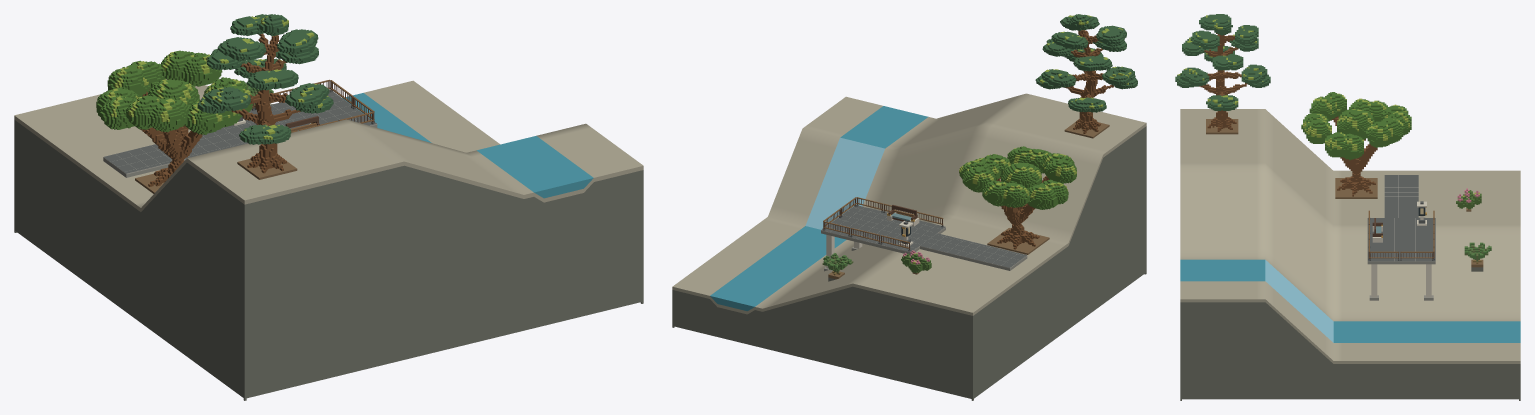
File: visual-far.glb
3 views of the same model, side by side, from view 1: azimuth 30°, elevation 25°; view 2: azimuth 150°, elevation 25°; view 3: azimuth 270°, elevation 25° (orthographic). The views are drawn at different scales.
Visible parts, largest first — view 1: 连续岩土实体与最小原生岩块, 松类体素分枝树母版, 阔叶分枝与开阔树冠母版, 同源床面裁切的真实水域 (×2), 分层实心台基与独立石铺面 (×2); view 2: 连续岩土实体与最小原生岩块, 同源床面裁切的真实水域 (×3), 阔叶分枝与开阔树冠母版, 松类体素分枝树母版, 分层实心台基与独立石铺面 (×2), 贴地独立根域与表土, 分枝灌木与花灌木母版, 公共长椅与石凳母版; view 3: 连续岩土实体与最小原生岩块, 同源床面裁切的真实水域 (×3), 阔叶分枝与开阔树冠母版, 松类体素分枝树母版, 分层实心台基与独立石铺面 (×2), 贴地独立根域与表土 (×2), 分枝灌木与花灌木母版, 蕨类与阔叶地被簇母版.
Boxes of the visible parts, box(x1,y1,x2,y2) form: 连续岩土实体与最小原生岩块: box(14, 79, 643, 400); 松类体素分枝树母版: box(197, 14, 333, 173); 阔叶分枝与开阔树冠母版: box(96, 50, 252, 186); 同源床面裁切的真实水域 (×2): box(342, 93, 593, 198); 分层实心台基与独立石铺面 (×2): box(103, 91, 377, 177); 连续岩土实体与最小原生岩块: box(672, 93, 1146, 400); 同源床面裁切的真实水域 (×3): box(710, 106, 928, 311); 阔叶分枝与开阔树冠母版: box(959, 146, 1076, 249); 松类体素分枝树母版: box(1035, 14, 1137, 133); 分层实心台基与独立石铺面 (×2): box(821, 205, 1027, 270); 贴地独立根域与表土: box(987, 228, 1049, 254); 分枝灌木与花灌木母版: box(901, 250, 931, 273); 公共长椅与石凳母版: box(887, 205, 919, 226); 连续岩土实体与最小原生岩块: box(1180, 109, 1520, 400); 同源床面裁切的真实水域 (×3): box(1180, 259, 1520, 342); 阔叶分枝与开阔树冠母版: box(1301, 92, 1411, 196); 松类体素分枝树母版: box(1175, 14, 1270, 131); 分层实心台基与独立石铺面 (×2): box(1367, 175, 1435, 264); 贴地独立根域与表土 (×2): box(1206, 119, 1377, 198); 分枝灌木与花灌木母版: box(1456, 188, 1481, 209); 蕨类与阔叶地被簇母版: box(1464, 242, 1491, 263).
Size of the model in its own units: 41.8 by 33.4 by 40.6.
Materials: 26 (24 with a texture image).
